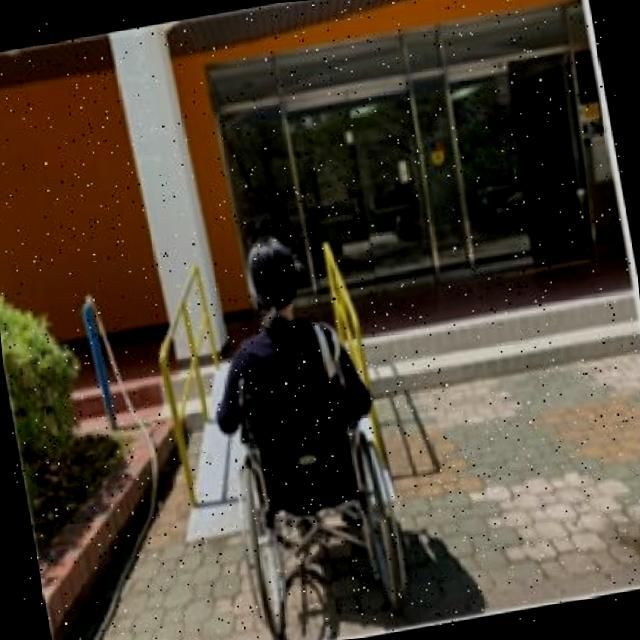Person: (195, 226, 418, 640)
